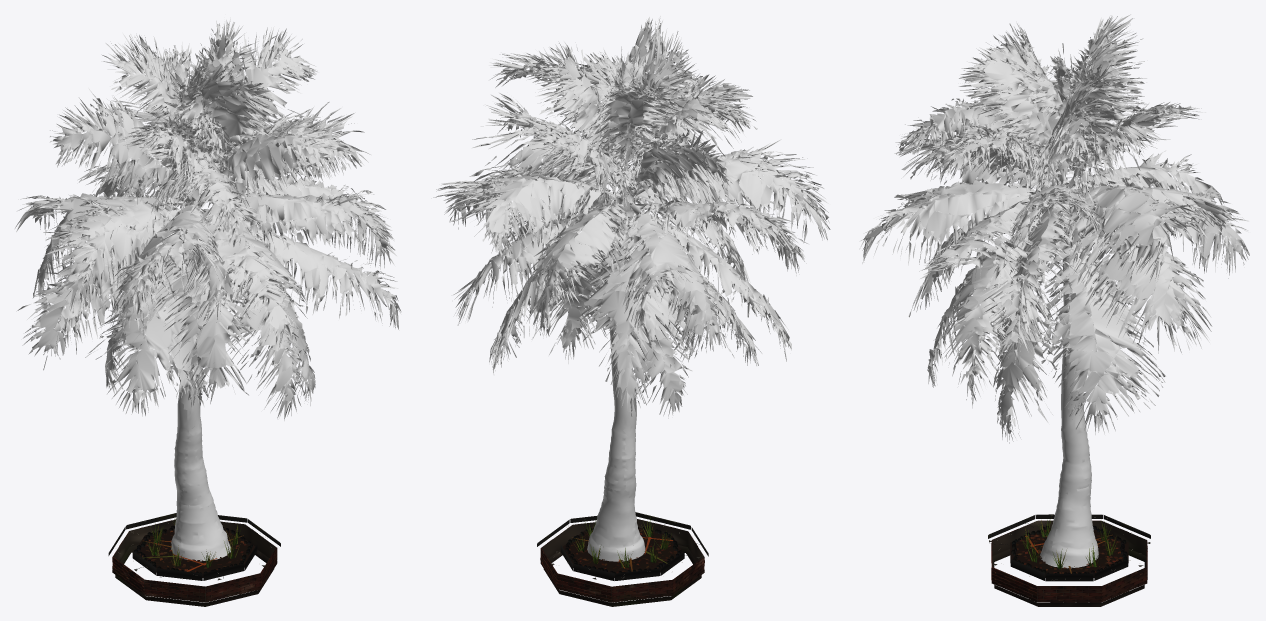
Rendered from PV_CayDua.fbx.
3 views of the same model, side by side, from view 1: azimuth 30°, elevation 25°; view 2: azimuth 150°, elevation 25°; view 3: azimuth 270°, elevation 25° (orthographic). The views are drawn at different scales.
Visible parts, largest first — view 1: CayDua_LOD0, BeCay_LOD0; view 2: CayDua_LOD0, BeCay_LOD0; view 3: CayDua_LOD0, BeCay_LOD0.
Boxes of the visible parts, x1=… form: CayDua_LOD0: x1=15, y1=17, x2=401, y2=561; BeCay_LOD0: x1=108, y1=513, x2=280, y2=606; CayDua_LOD0: x1=433, y1=16, x2=830, y2=561; BeCay_LOD0: x1=537, y1=512, x2=708, y2=606; CayDua_LOD0: x1=861, y1=14, x2=1249, y2=568; BeCay_LOD0: x1=988, y1=514, x2=1150, y2=606.
Size of what is drawn, in the model's own units: 6.8 by 9.96 by 6.56.
